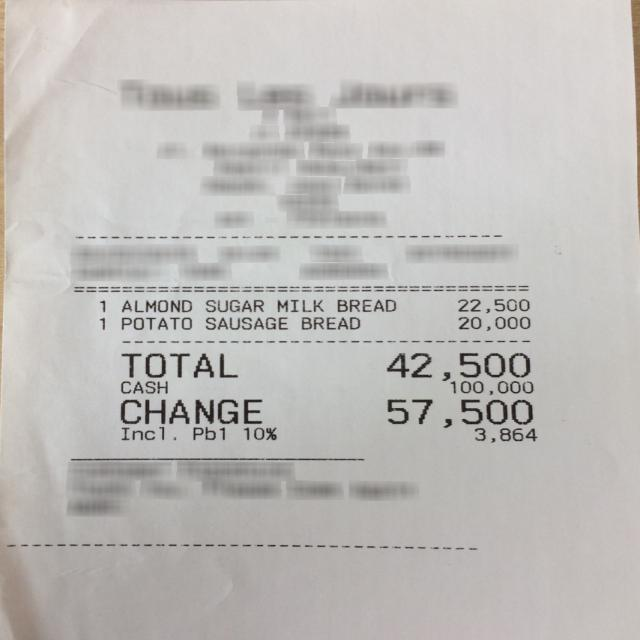text: (385, 398, 532, 428), (386, 350, 530, 380), (120, 398, 260, 424), (119, 351, 238, 378), (446, 380, 532, 394), (205, 316, 286, 328), (121, 298, 190, 312), (457, 299, 528, 312), (457, 316, 528, 329), (474, 427, 536, 441), (120, 316, 190, 328), (300, 316, 358, 329), (335, 299, 395, 311), (204, 299, 261, 311), (120, 426, 165, 440), (119, 380, 166, 392), (277, 299, 322, 311), (191, 425, 225, 440), (243, 427, 276, 439), (97, 316, 107, 331), (99, 299, 106, 312)
